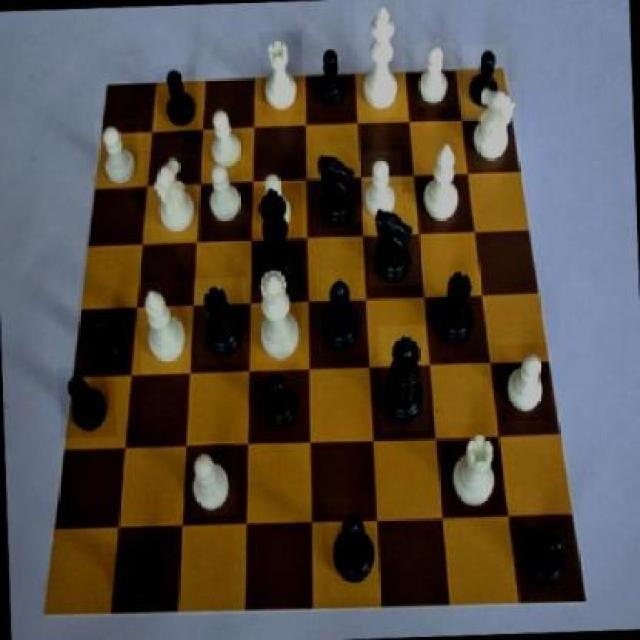bishop: (328, 498, 380, 598), (316, 269, 366, 354)
black-bishop: (249, 183, 305, 290)
black-king: (309, 143, 365, 237), (366, 192, 420, 286)
black-knight: (518, 511, 574, 598), (108, 538, 164, 618), (57, 364, 116, 438), (80, 308, 135, 375), (255, 362, 302, 438), (155, 64, 198, 138), (311, 43, 353, 117), (462, 43, 508, 110)
black-pawn: (378, 326, 428, 434)
black-queen: (194, 277, 249, 367), (432, 258, 482, 351)
black-rook: (138, 282, 192, 376), (415, 136, 468, 228)
white-bishop: (356, 0, 408, 118)
white-king: (466, 80, 523, 170), (148, 153, 202, 240)
white-knight: (498, 342, 551, 421), (188, 442, 238, 518), (94, 118, 144, 192), (359, 150, 403, 222), (203, 104, 248, 174), (254, 170, 300, 236), (203, 163, 247, 226), (414, 43, 456, 108)
white-pawn: (251, 260, 306, 368)
white-queen: (446, 422, 506, 519), (258, 32, 304, 117)
